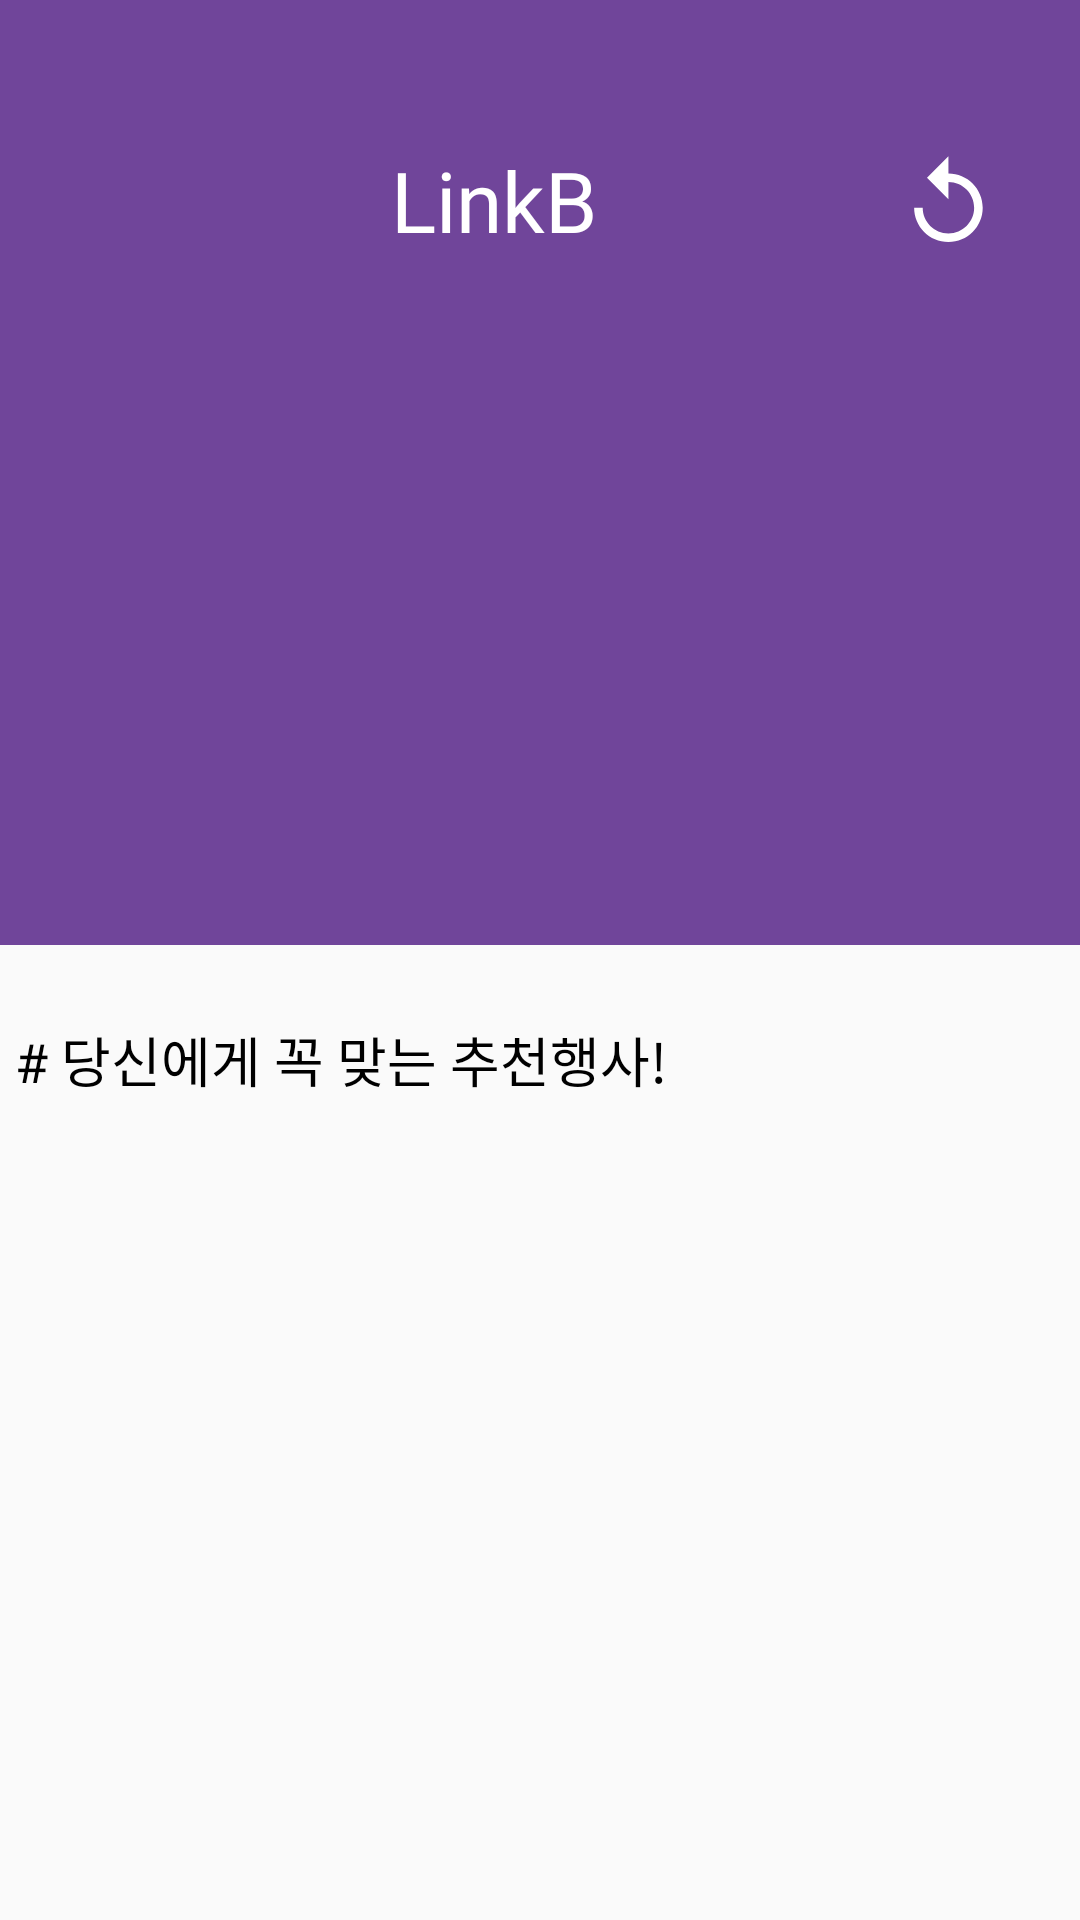

Icons on this 1080*1920 Android screen, each with its box as (x1, y1, x2, y2):
replay: (914, 156, 983, 242)
